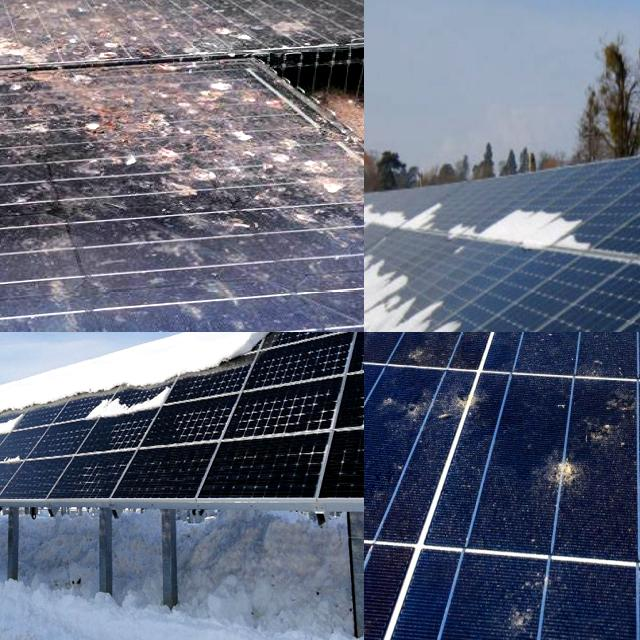bird: (176, 106, 342, 210), (0, 61, 118, 178), (364, 332, 462, 458), (0, 0, 188, 62), (203, 0, 343, 61), (0, 15, 58, 143), (0, 184, 86, 267), (494, 551, 561, 640), (528, 444, 604, 502), (0, 133, 35, 246), (364, 479, 416, 532), (389, 332, 448, 368), (542, 332, 598, 366)
panel: (492, 200, 591, 260), (160, 333, 228, 383), (86, 388, 184, 416), (364, 241, 403, 303), (409, 299, 481, 332), (394, 201, 446, 237), (442, 208, 490, 244), (0, 395, 37, 439), (225, 332, 291, 354), (364, 217, 388, 269), (24, 387, 72, 411), (0, 447, 33, 472), (364, 197, 388, 227)
